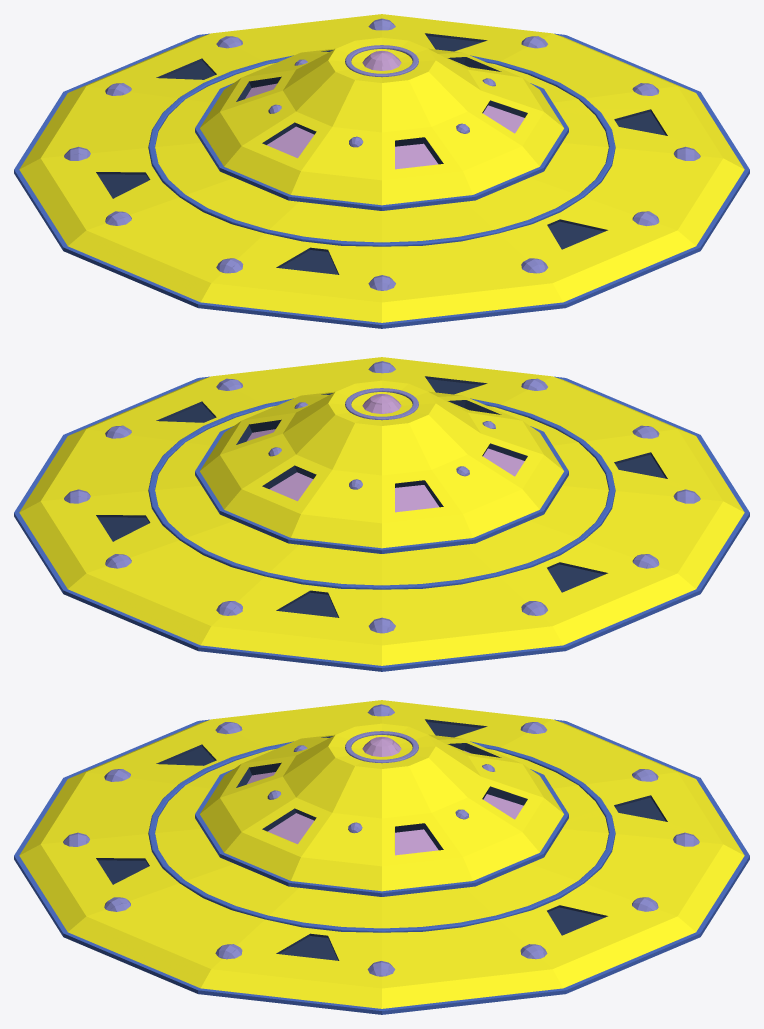
Rendered from ufo_large_yellow.obj.
The picture shows the model from 3 angles, top to bottom: view 1: azimuth 30°, elevation 25°; view 2: azimuth 150°, elevation 25°; view 3: azimuth 270°, elevation 25°; orthographic projection.
Bounding box in the file's own units: 424 × 108 × 424.
Materials: 1 (1 with a texture image).
